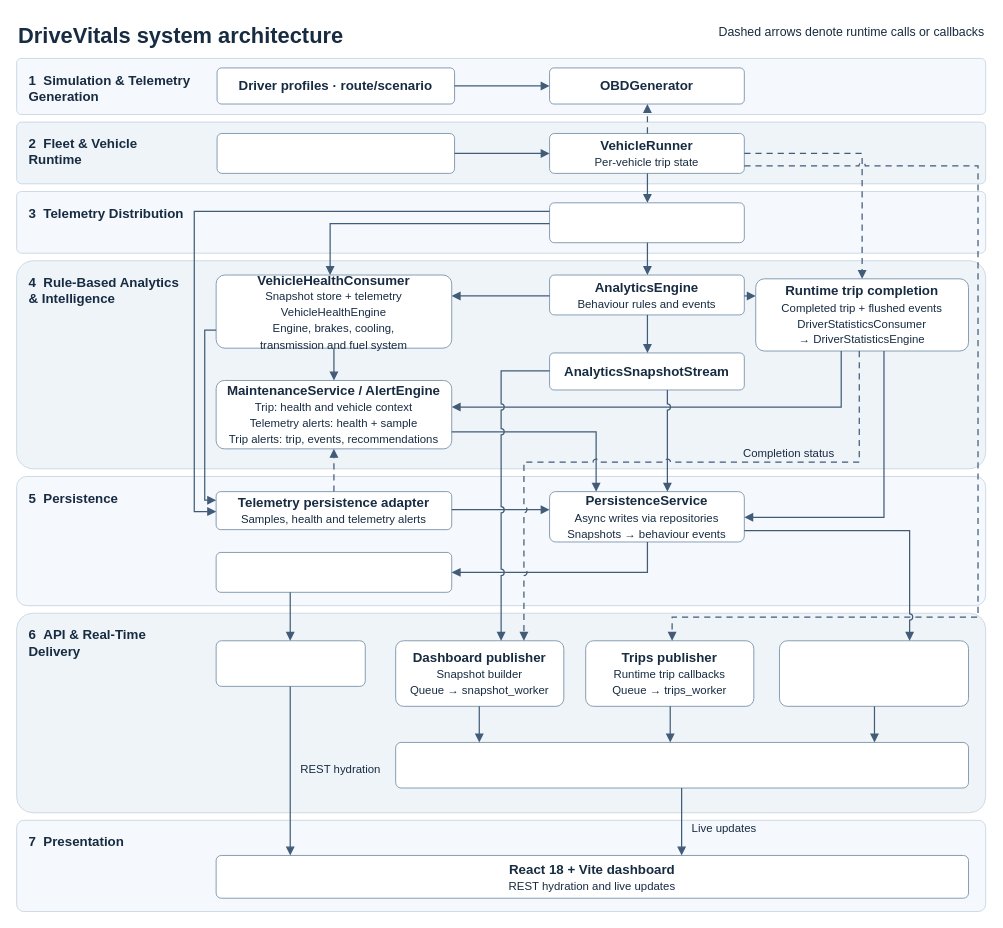
The diagram is 1003 pixels wide and 928 high, and some of its shapes have lost their labels. The shapes that lost their labels are listed below. From the top down, each one's centre as x and y in pixels, then its label:
At point 335,153: "FleetRunner Active vehicle coordination".
At point 646,222: "TelemetryPipeline Typed TelemetrySample fan-out".
At point 333,571: "PostgreSQL 16 Async SQLAlchemy data access".
At point 290,663: "FastAPI REST /api/v1/*".
At point 874,673: "Persistence alert callback Alert events Queue → alerts_worker".
At point 682,764: "WebSocketManager /ws/dashboard · /ws/trips · /ws/alerts".
